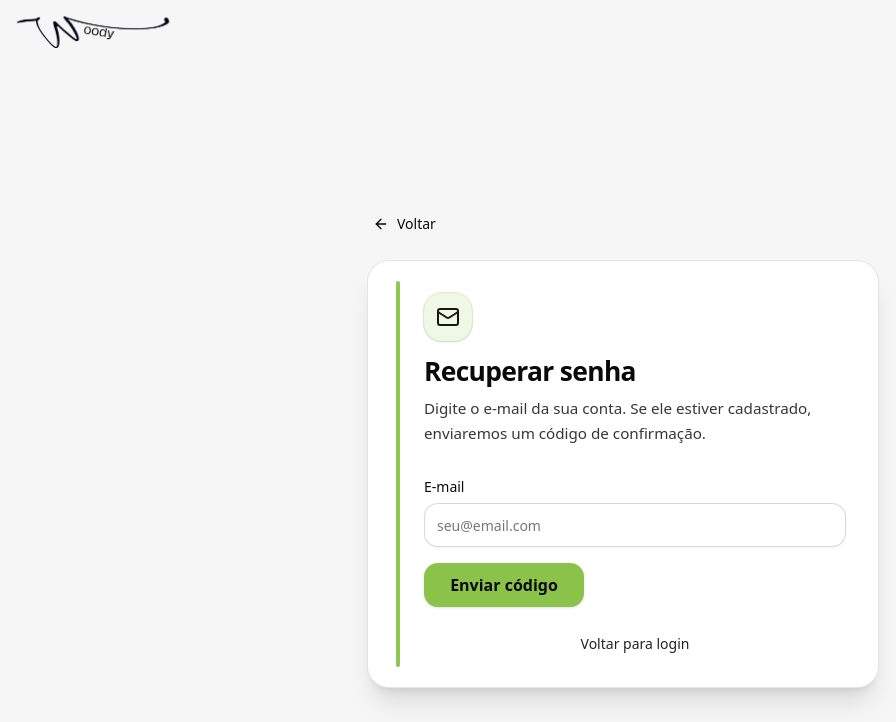
Test case: ForgotPasswordFlow › request válido navega para verify e mostra maskedEmail
Type "user@example.com" into the field labelled "E-mail" at (635, 525), box [424, 503, 846, 547]
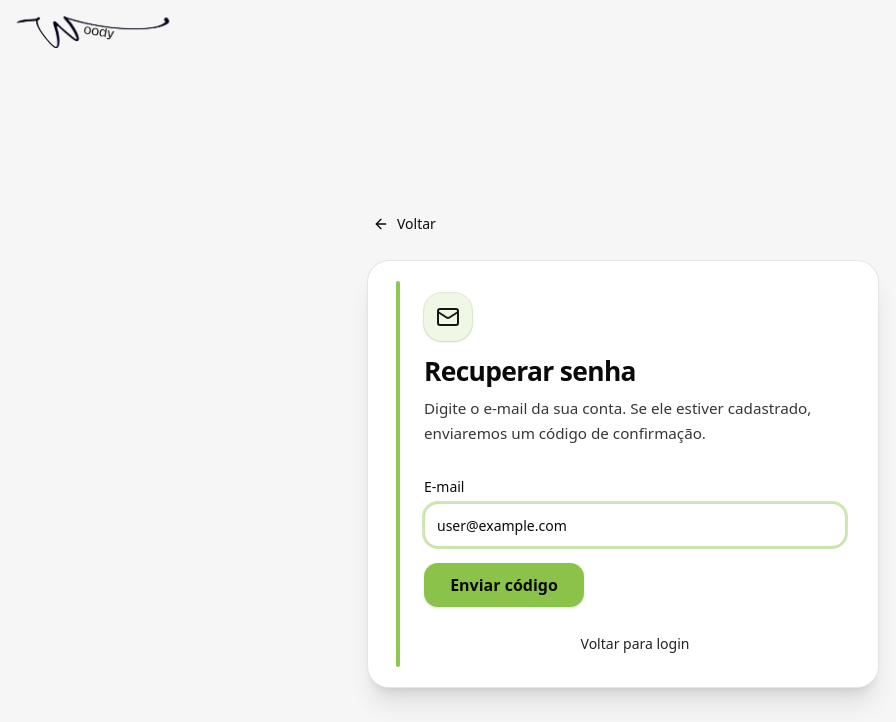
Click the button "Enviar código" at (504, 585), box [424, 563, 584, 607]
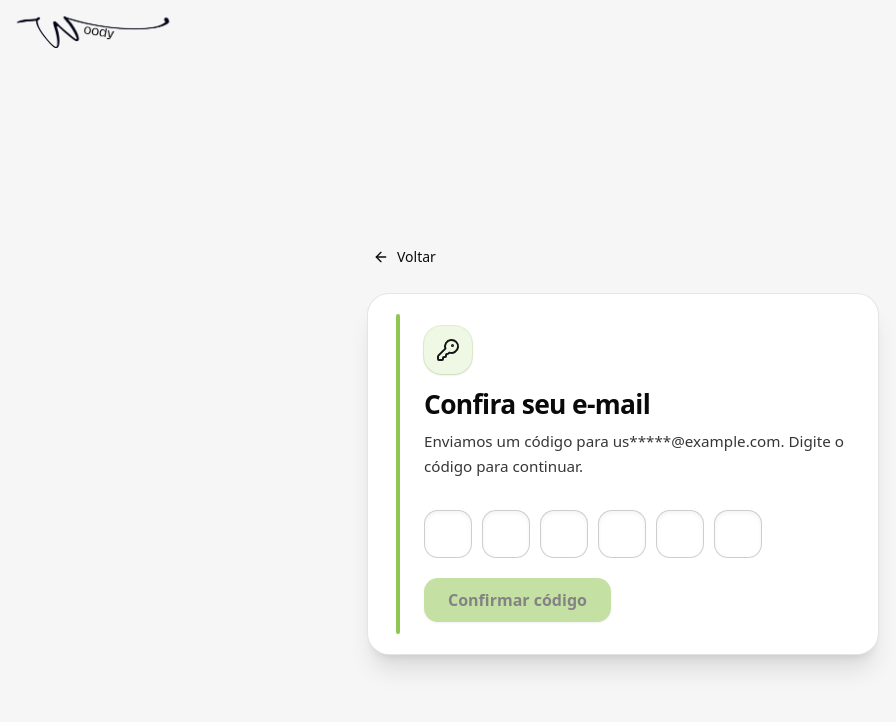
Expected: the heading "Confira seu e-mail" is shown, [424, 386, 650, 422]
Expected: the text "us*****@example.com" is shown, [424, 431, 844, 476]
